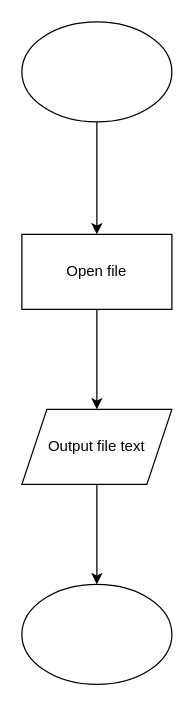
Some shapes in this 194 by 706 pixel diagram are drawn without their labels. The shapes that lost their labels are listed below. From the top down, each one's box as (x1, y1, x2, y2) in pixels, then its label:
(21, 21, 172, 122): Start
(21, 583, 172, 684): End
